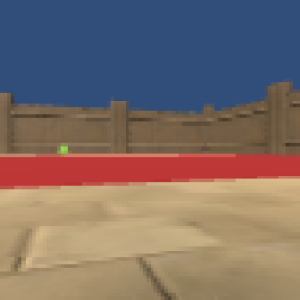deathZone: (1, 155, 300, 190)
goodGoal: (56, 144, 72, 156)
